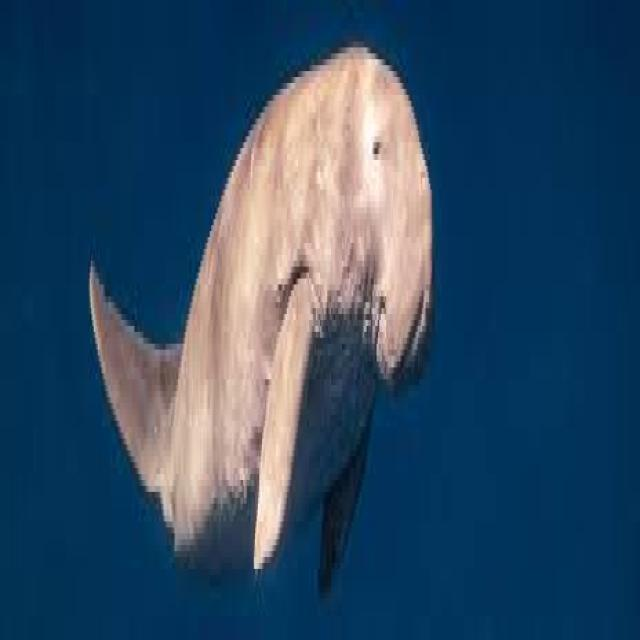Dugong -Endangered-: (89, 48, 433, 600)
